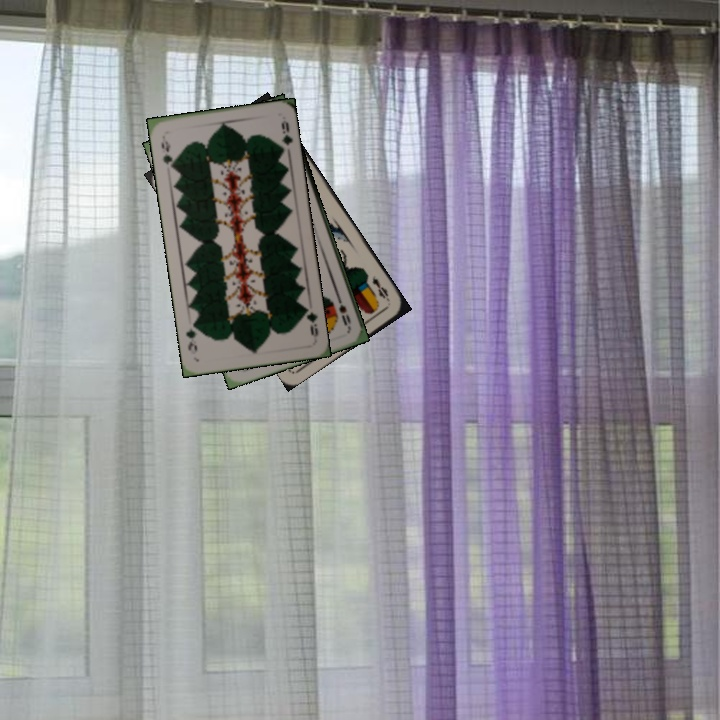EO: (368, 271, 393, 304)
G9: (299, 302, 321, 342), (157, 132, 177, 171)
SO: (333, 290, 353, 330)
